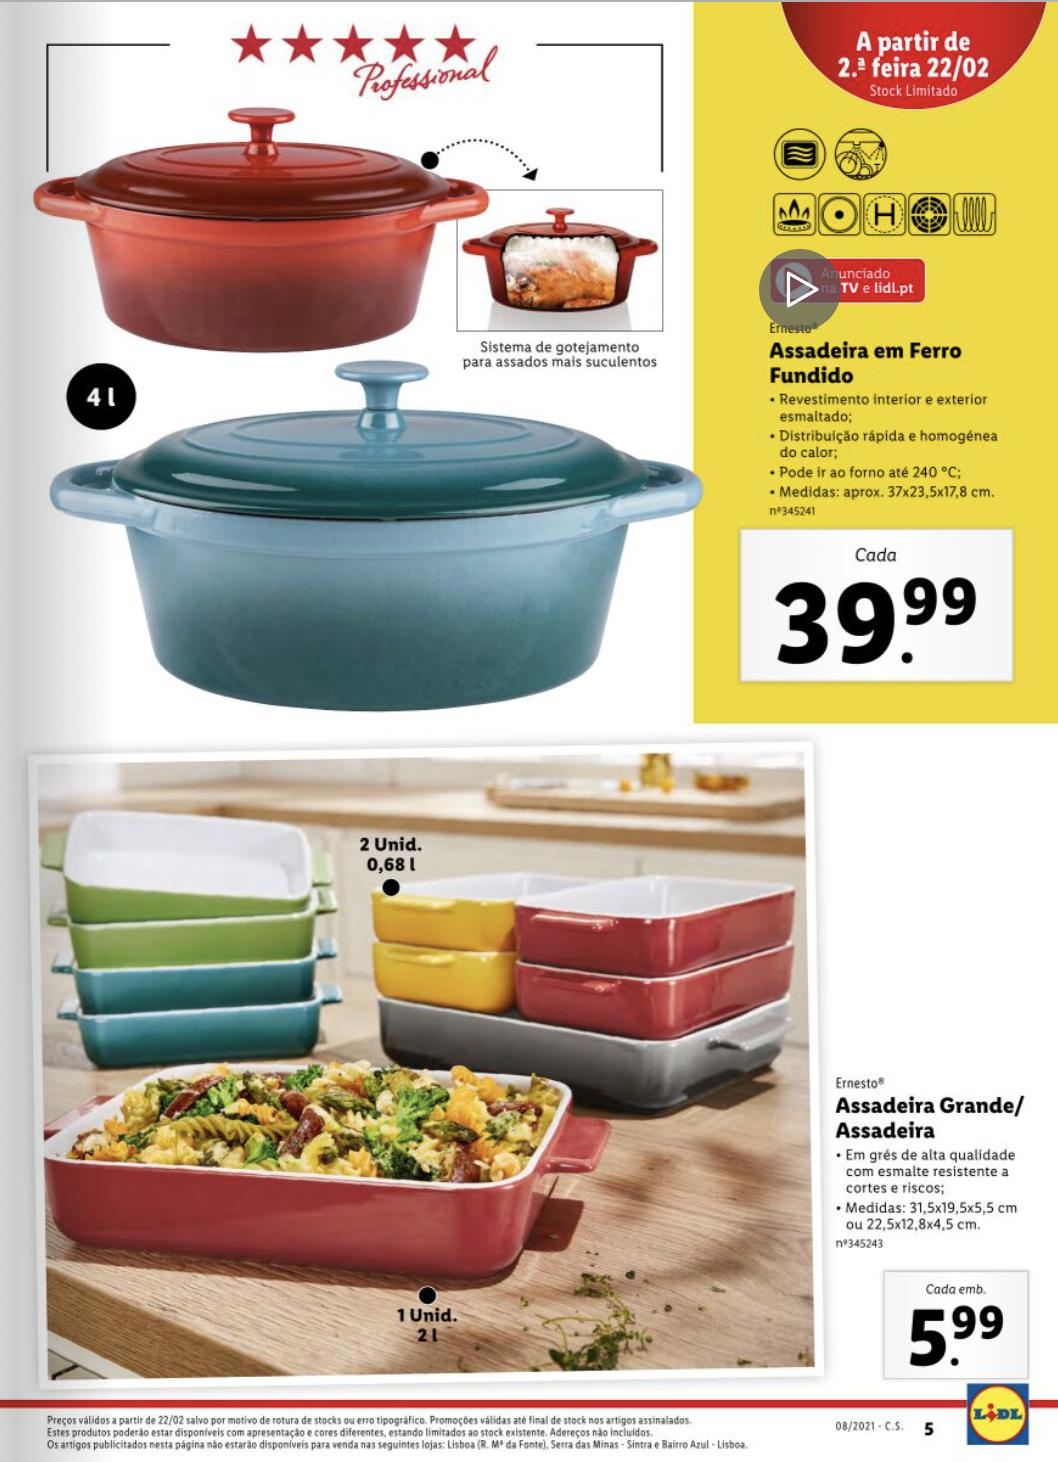name: (830, 1090, 1030, 1145), (763, 339, 965, 388)
price: (767, 570, 992, 677), (899, 1301, 1009, 1372)
product: (14, 10, 1053, 725), (27, 743, 1050, 1397)
